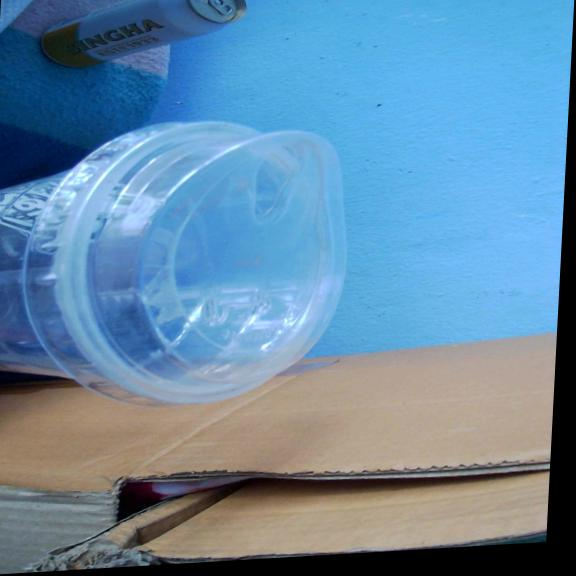Plastik: (0, 122, 344, 406)
